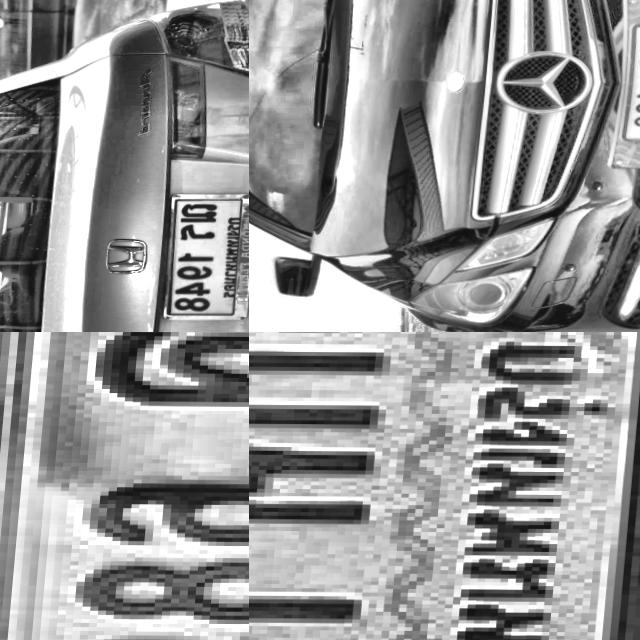license-plate: (249, 332, 640, 640), (0, 332, 249, 640), (163, 193, 249, 321), (617, 23, 640, 147)
